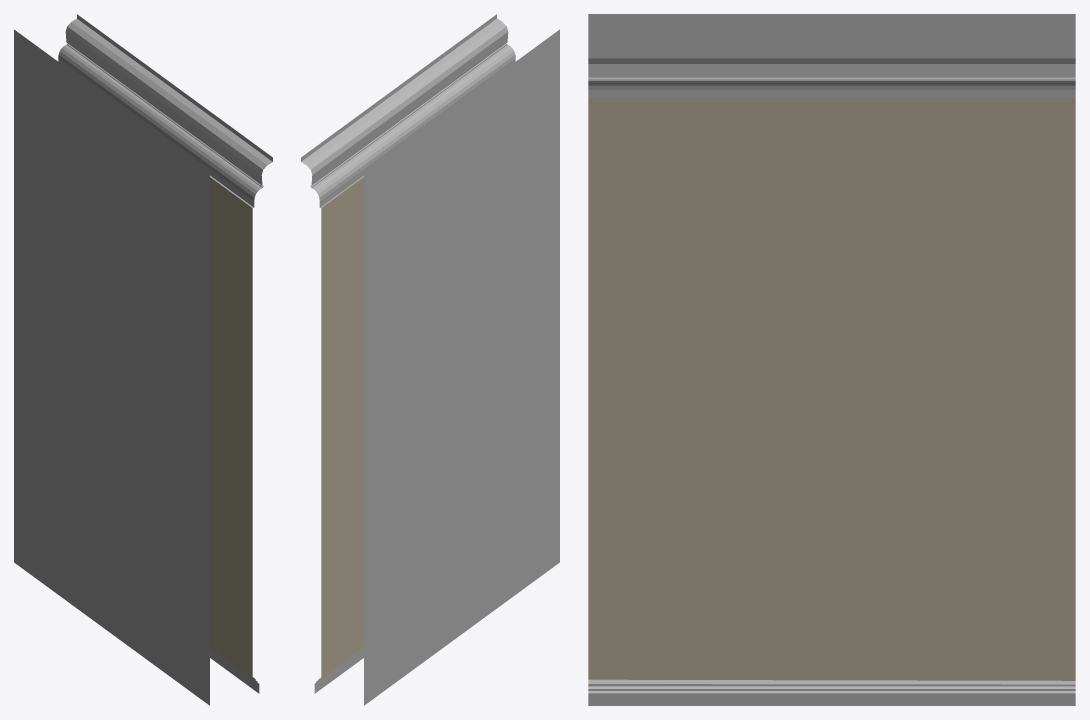
The model's file is 2x3 pared.fbx.
3 renders of one model, left to right at view 1: azimuth 30°, elevation 25°; view 2: azimuth 150°, elevation 25°; view 3: azimuth 270°, elevation 25°, orthographic. The views are drawn at different scales.
Visible parts, largest first — view 1: 2x3 pared.; view 2: 2x3 pared.; view 3: 2x3 pared..
Boxes of the visible parts, x1,y1,x2,y2 form: 2x3 pared.: [14, 14, 272, 705]; 2x3 pared.: [301, 14, 559, 705]; 2x3 pared.: [588, 14, 1075, 705].
Bounding box in the file's own units: 37 × 300 × 200.
